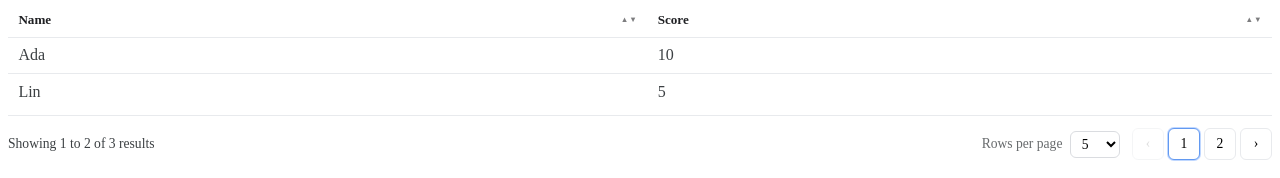
Test: BrightrailTableComponent › paginates rows when pagination config is provided
Check: the text "Ray" is not shown
Click the button named "Next page" at [1256, 144], box [1240,128,1272,160]
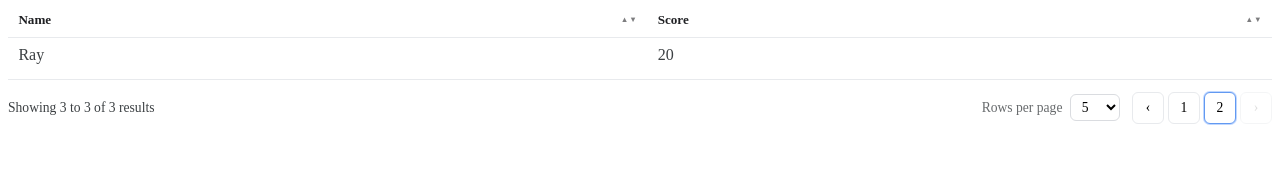
Check: the text "Ray" is shown, box [18,46,44,63]
